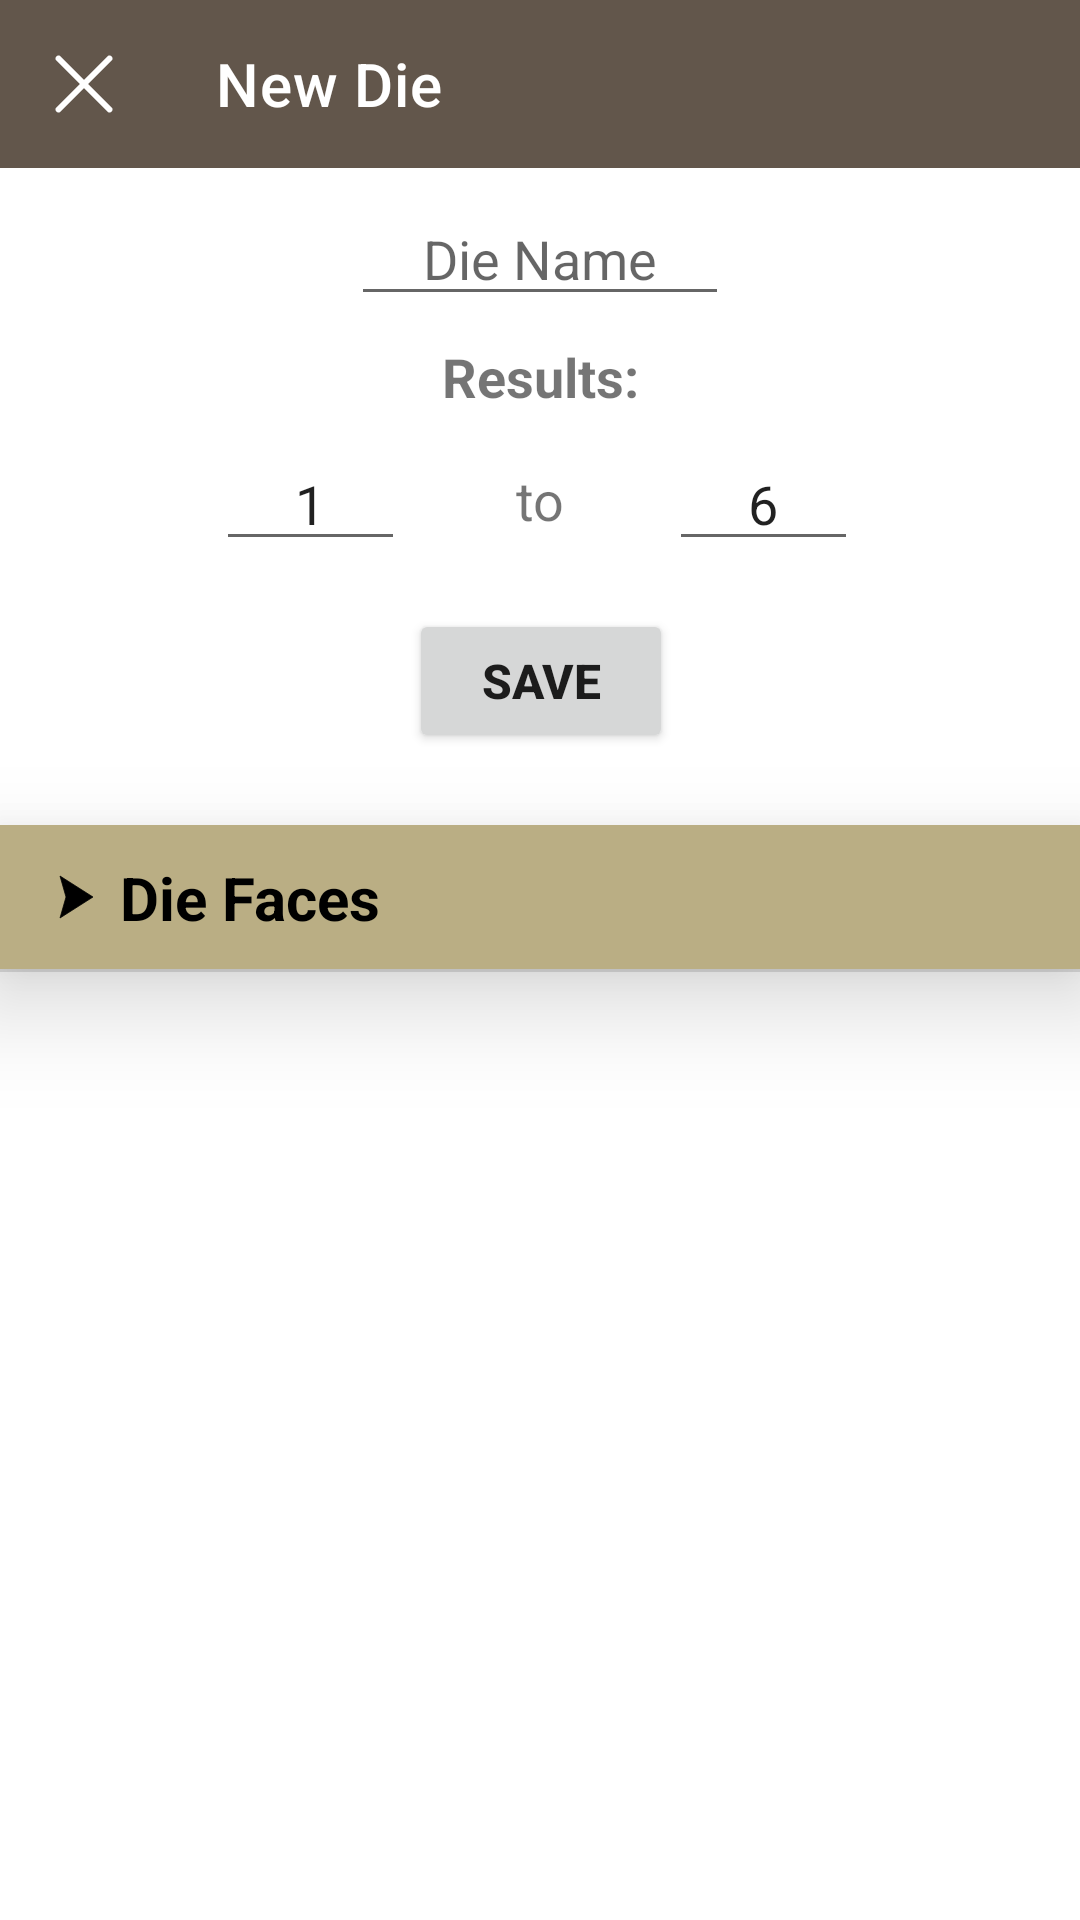

Named icons in this screenshot (1080px x 1920px) and their centers, (x=x, y=y):
Custom Faces Section Collapse Arrow: (x=76, y=897)
